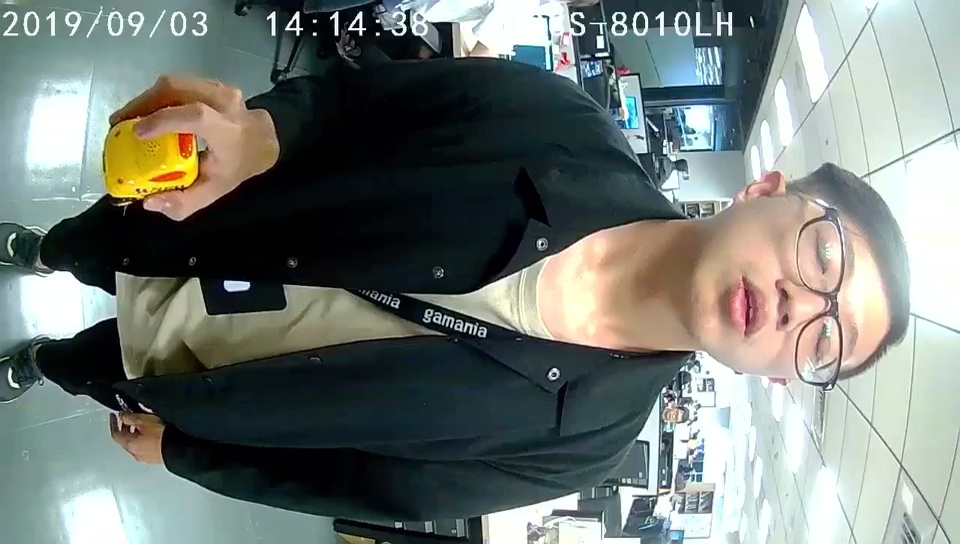car: (100, 118, 199, 199)
